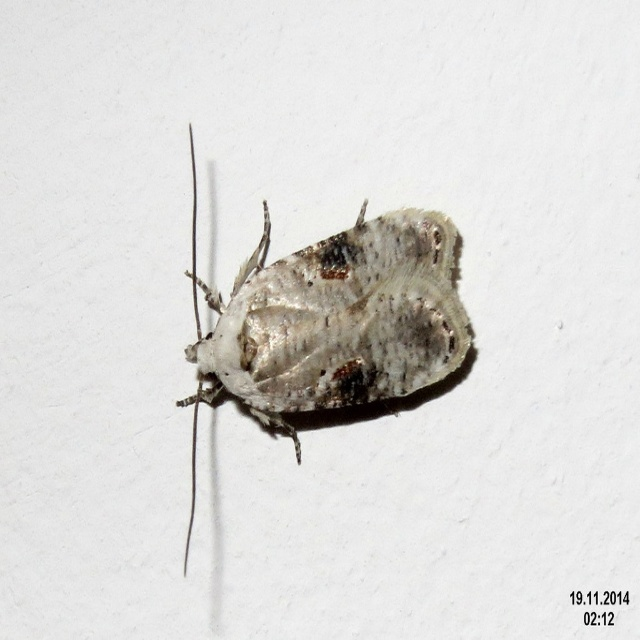Moths and butterflies: (177, 119, 471, 575)
